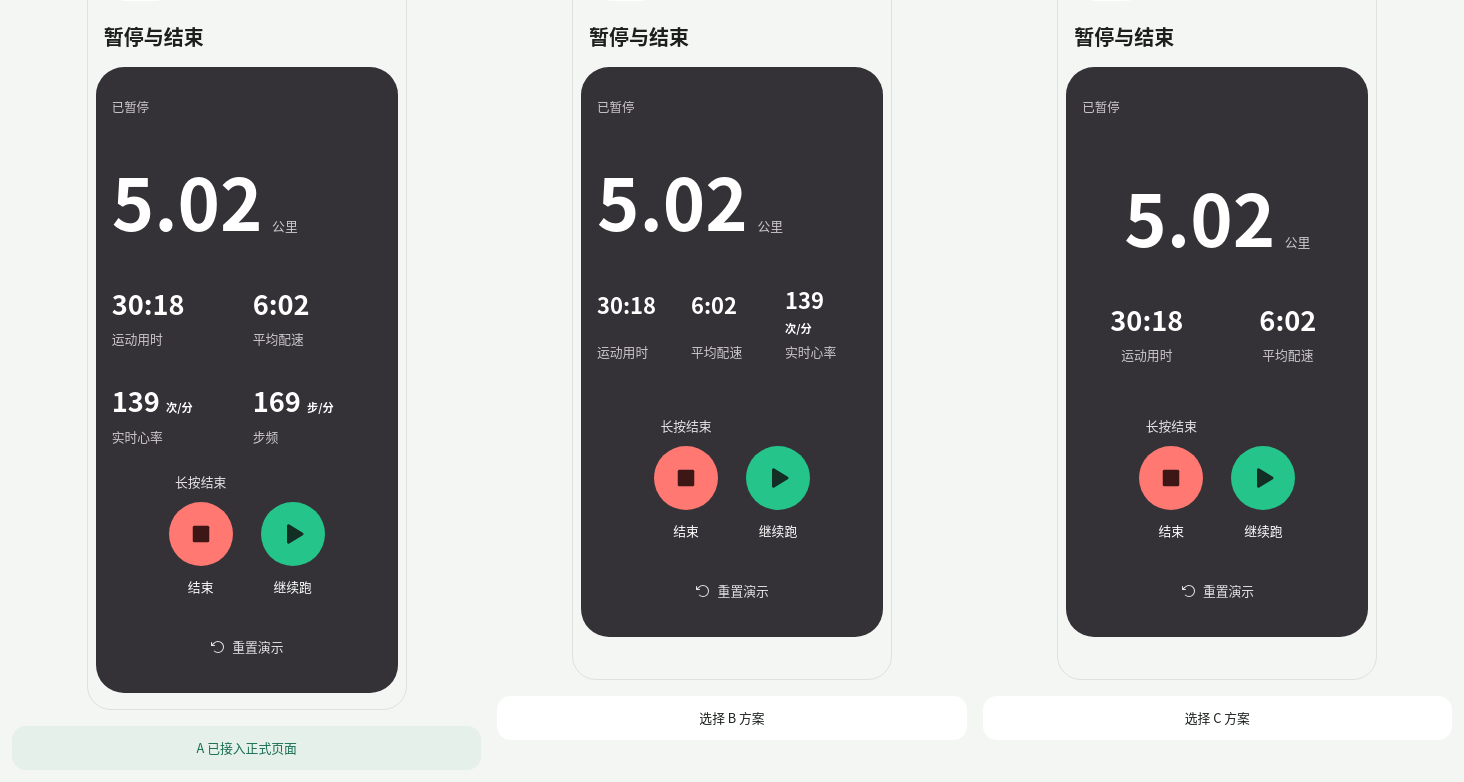
长按中途取消不会结束，持续按住才进入确认
(page scrolled)
Press the mouse on the button named "结束" below "步频" at (201, 534), box [169,502,233,566]
Press the mouse on the button named "结束" below "步频" at (201, 534), box [169,502,233,566]
Wait 1200 ms
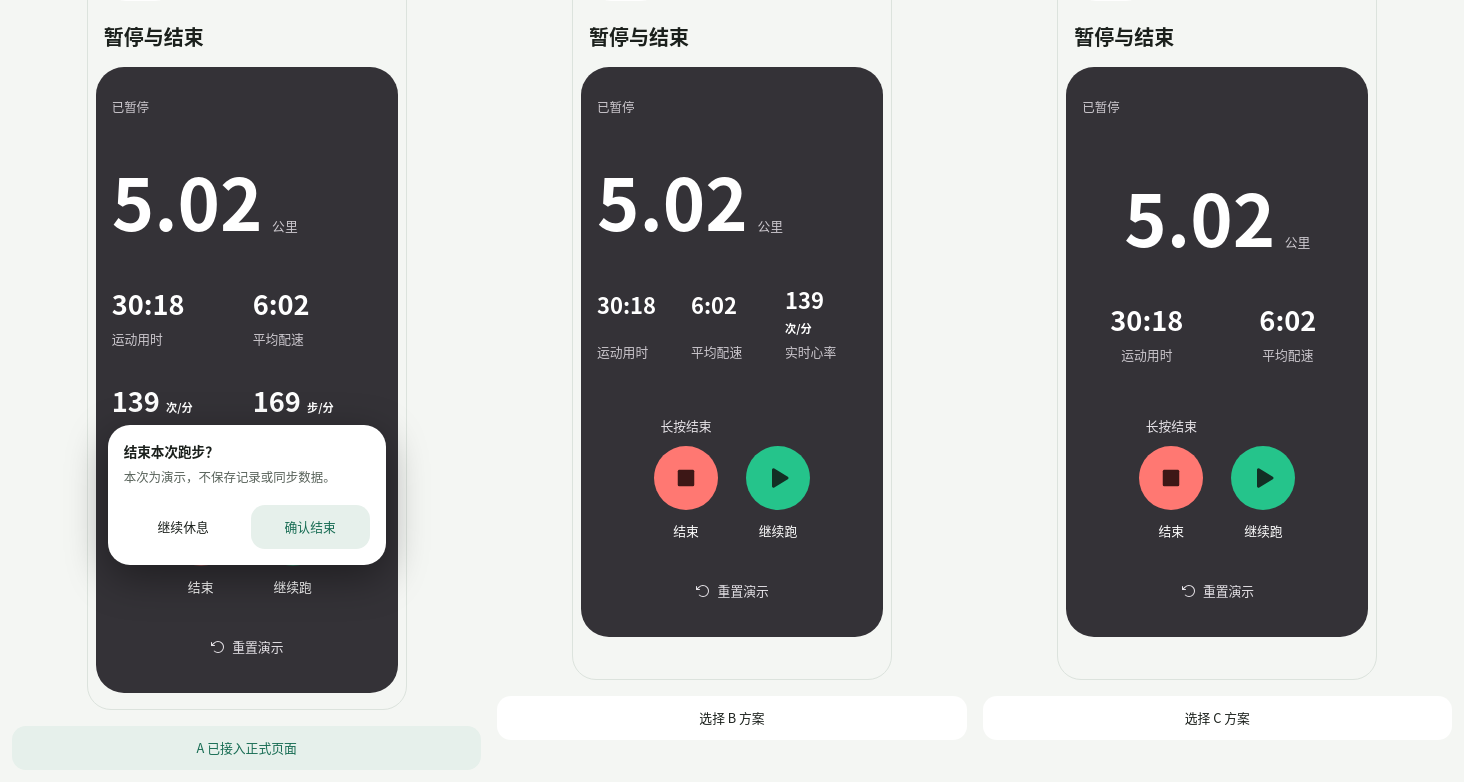
Now the element named "结束确认" is shown, box [108,425,386,565]
